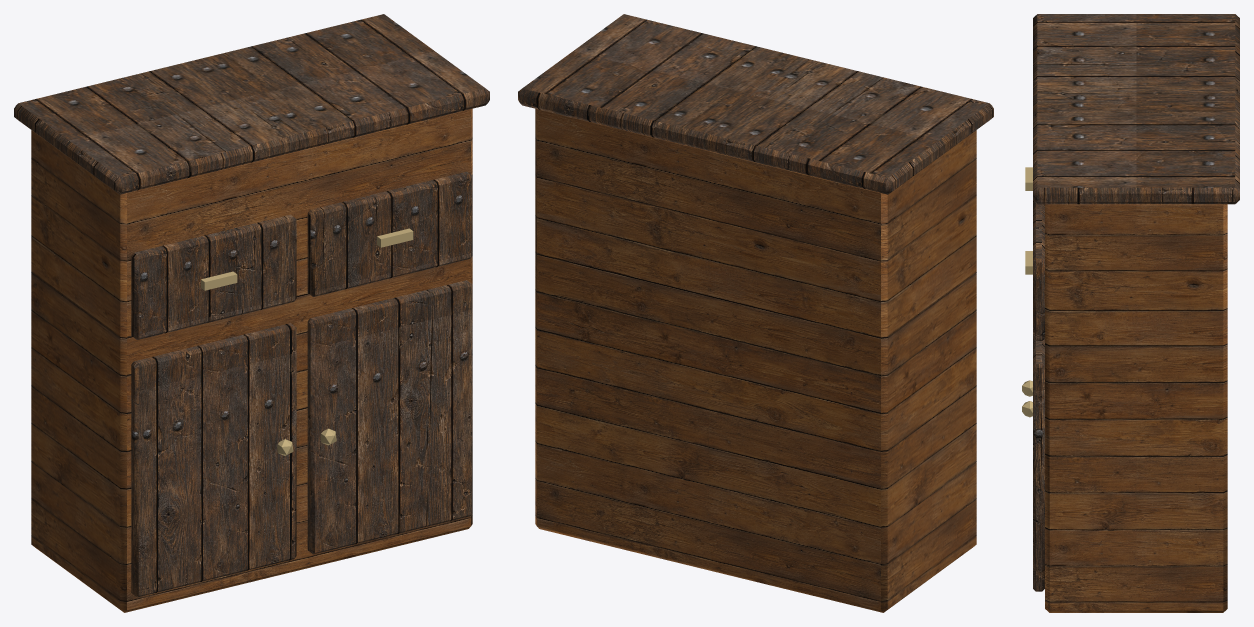
File: kitchen-cabinet-v01.glb
The picture shows the model from 3 angles, left to right: view 1: azimuth 30°, elevation 25°; view 2: azimuth 150°, elevation 25°; view 3: azimuth 270°, elevation 25°; orthographic projection. The views are drawn at different scales.
Visible parts, largest first — view 1: kitchen-cabinet; view 2: kitchen-cabinet; view 3: kitchen-cabinet.
Boxes of the visible parts, left/top/right/bottom form: kitchen-cabinet: left=14, top=14, right=489, bottom=612; kitchen-cabinet: left=518, top=14, right=993, bottom=612; kitchen-cabinet: left=1022, top=14, right=1239, bottom=612.
Bounding box in the file's own units: 1.38 × 1.56 × 0.7155.
3 materials, 2 textured.
